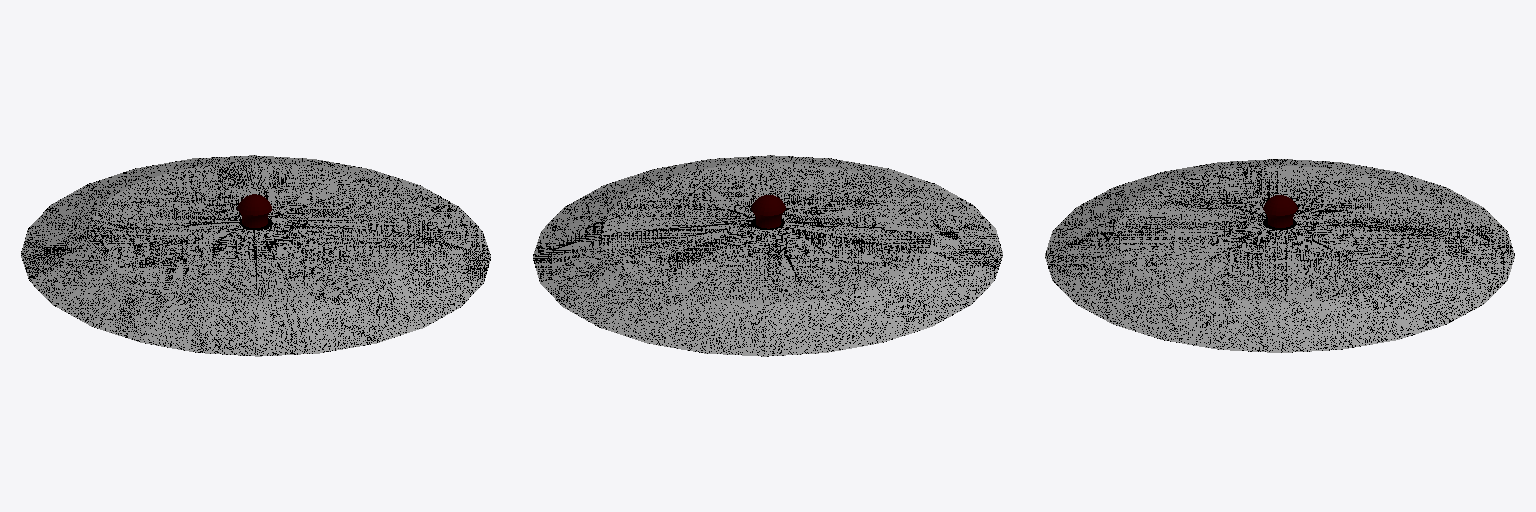
URDF robot description (lid):
<?xml version="1.0"?>

<robot name="lid">
  <link name="lid_frame">
    <visual>
      <geometry>
        <mesh filename="package://kitchen_context/models/lid/meshes/lid.dae"/>
      </geometry>
    </visual>
  </link>
</robot>

--- Facts derived from the render (not from the file) ---
The picture shows the robot from 3 angles, left to right: view 1: azimuth 30°, elevation 25°; view 2: azimuth 150°, elevation 25°; view 3: azimuth 270°, elevation 25°; orthographic projection.
Model lid with 1 links and 0 joints (none), rooted at lid_frame, posed every joint at zero.
Links seen in each view (by area): view 1: lid_frame; view 2: lid_frame; view 3: lid_frame.
Link boxes in pixels (left/top/right/bottom): lid_frame: left=21, top=155, right=490, bottom=356; lid_frame: left=533, top=155, right=1002, bottom=356; lid_frame: left=1045, top=159, right=1514, bottom=352.
Bounding box of the posed robot: 0.21 × 0.215 × 0.0297 m (x, y, z).
Meshes: 1 distinct files referenced, 1 mesh visuals loaded (1 Collada DAE).